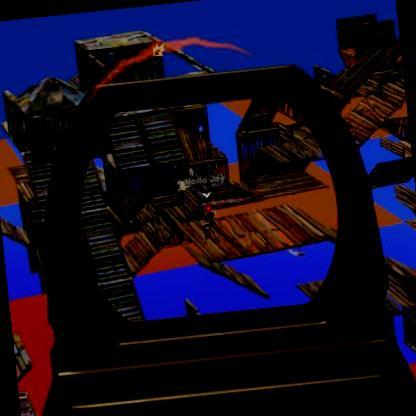person: (205, 206, 221, 244)
